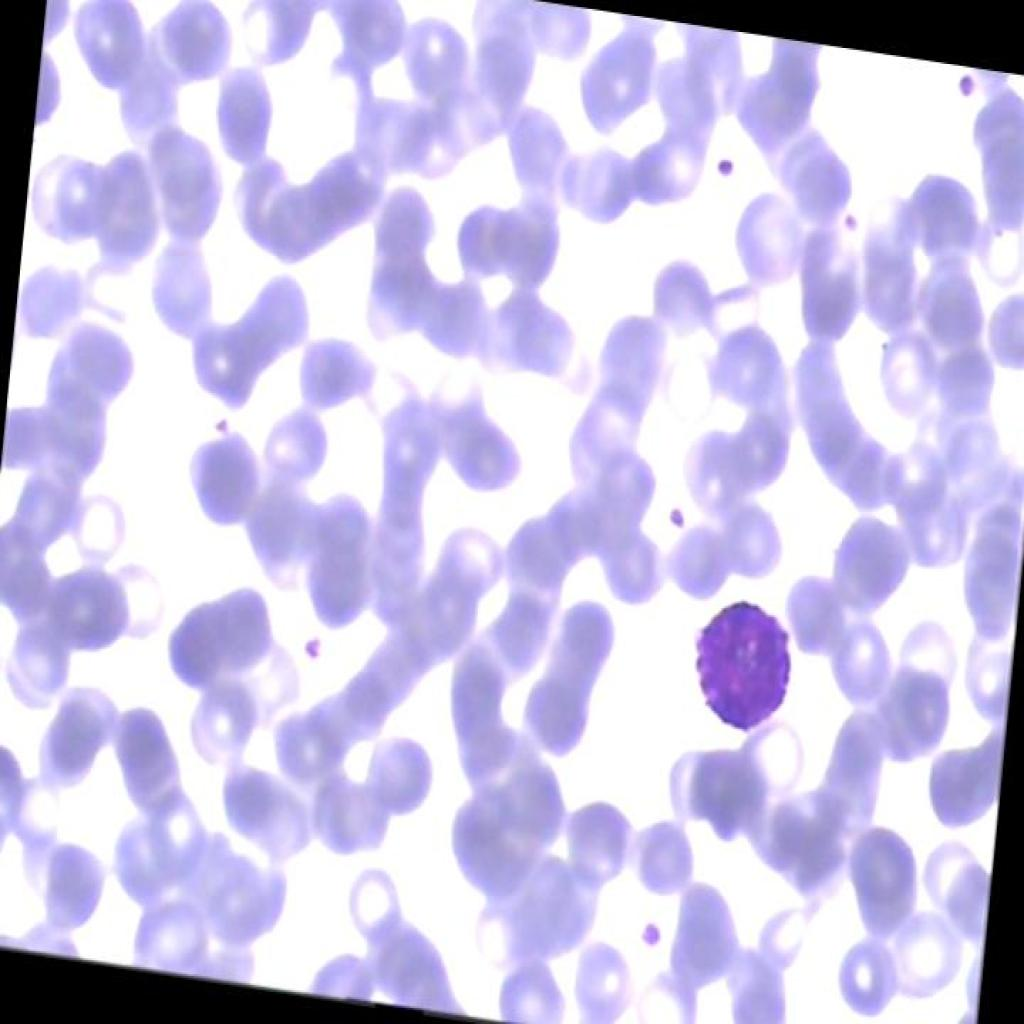Basofil: (678, 585, 812, 755)
Platelet: (653, 485, 695, 546), (627, 896, 667, 951), (704, 132, 741, 186), (839, 199, 873, 242), (205, 402, 236, 444), (300, 617, 329, 659), (954, 66, 982, 106)
